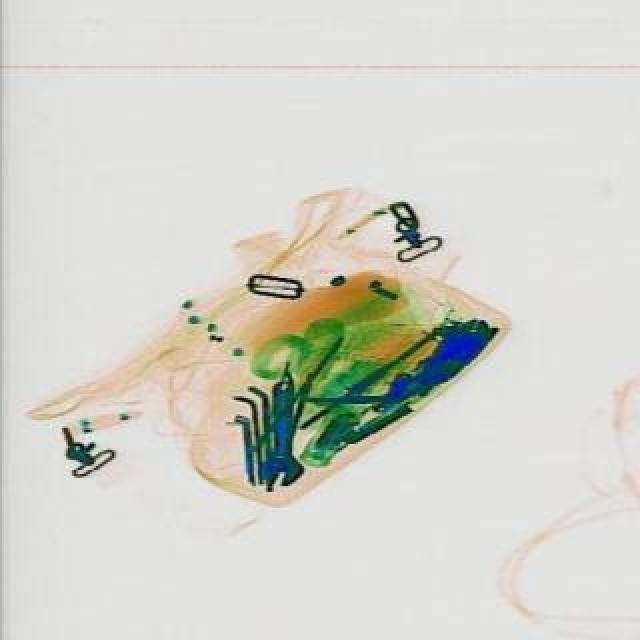scissors: (254, 378, 302, 486)
